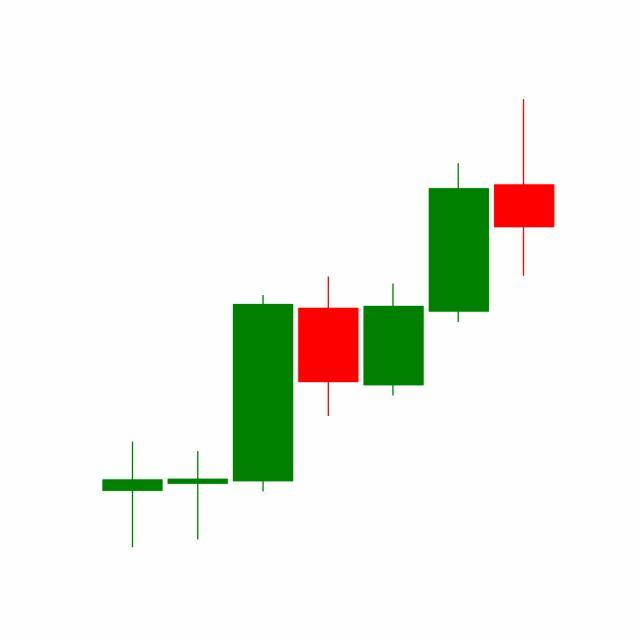Hikkake Pattern: (165, 160, 492, 545)
